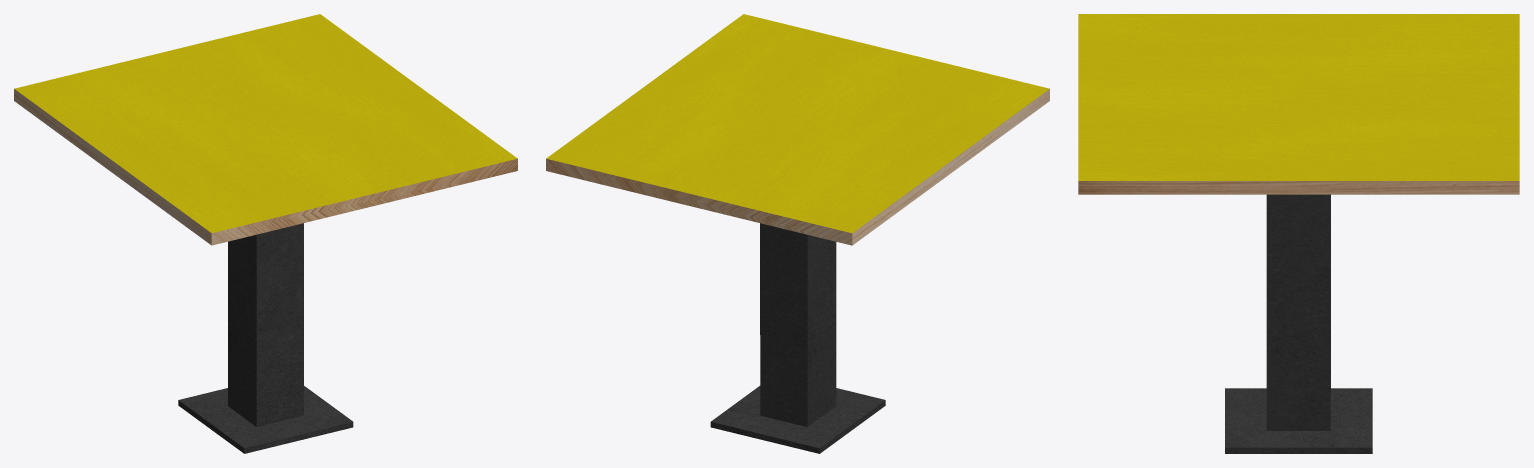
The model's file is Mesa.fbx.
3 renders of one model, left to right at view 1: azimuth 30°, elevation 25°; view 2: azimuth 150°, elevation 25°; view 3: azimuth 270°, elevation 25°, orthographic. The views are drawn at different scales.
Parts seen in each view (by area): view 1: Mesa_1; view 2: Mesa_1; view 3: Mesa_1.
Boxes of the visible parts, box(x1,y1,x2,y2) form: Mesa_1: box(14, 14, 517, 453); Mesa_1: box(546, 14, 1049, 453); Mesa_1: box(1078, 14, 1519, 453).
Bounding box in the file's own units: 89.39 × 81.69 × 99.93.
1 material, 1 textured.
